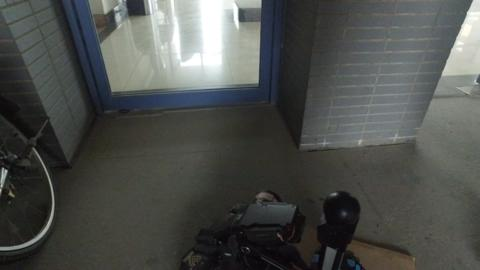chariot: (185, 193, 373, 269)
